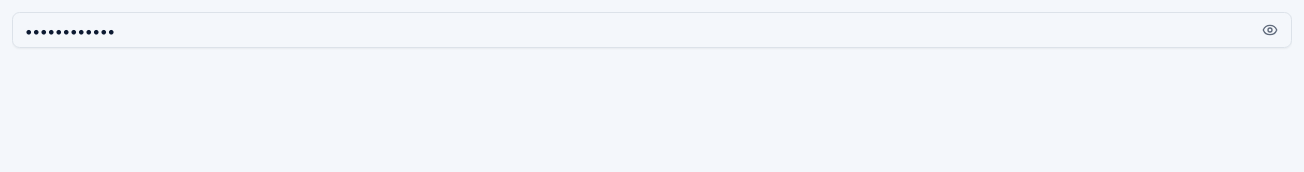
Scenario: PasswordInput visibility toggle › hides the password until the view button is pressed, then hides it again
Click the button named "Lihat password": click(1270, 30) top-left (1256, 16), bottom-right (1284, 44)
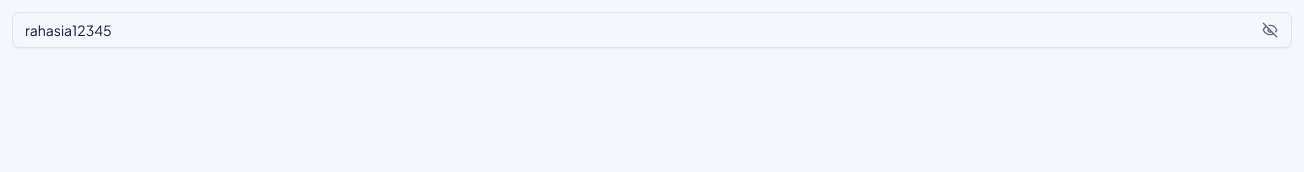
Check: the field named "Password saat ini" holds "rahasia12345", box top-left (12, 12), bottom-right (1292, 48)
Check: the field named "Password saat ini" shows its text, box top-left (12, 12), bottom-right (1292, 48)
Click the button named "Sembunyikan password": click(1270, 30) top-left (1256, 16), bottom-right (1284, 44)
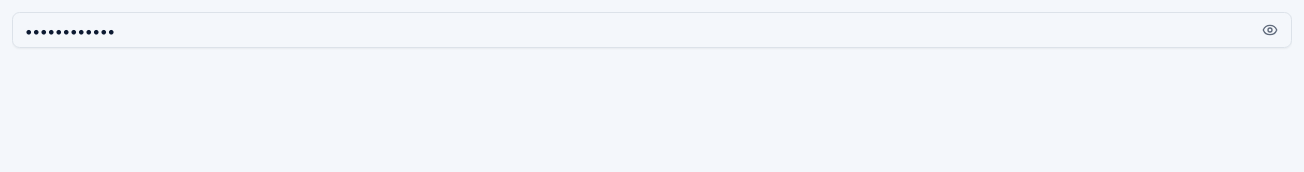
Check: the password field named "Password saat ini" hides its text, box top-left (12, 12), bottom-right (1292, 48)
